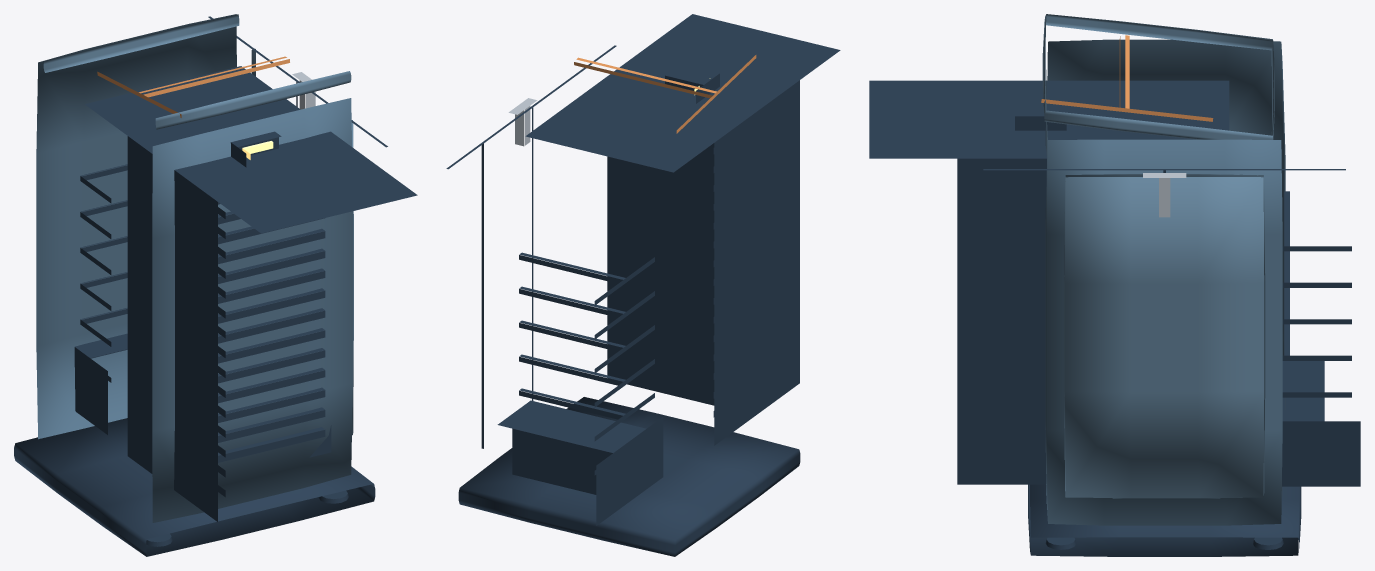
Rendered from model-modern-06.glb.
3 renders of one model, left to right at view 1: azimuth 30°, elevation 25°; view 2: azimuth 150°, elevation 25°; view 3: azimuth 270°, elevation 25°, orthographic. The views are drawn at different scales.
Parts seen in each view (by area): view 1: 机箱, 前面板饰框, 底座, 顶盖, 接口面板, 顶盖饰条, 散热格栅1, 散热格栅2, 散热格栅5, 散热格栅3, 散热格栅9, 散热格栅11 (+7 smaller); view 2: 前面板饰框, 底座, 接口面板, 侧板接缝, 顶盖饰条, 后部散热槽4, 后部散热槽5, 后部散热槽2, 后部散热槽3, 后部散热槽6, 指示灯槽, 侧板扣手; view 3: 可拆侧板, 前面板饰框, 机箱, 底座, 接口面板, 顶盖, 顶盖饰条, 指示灯槽, 后部散热槽6, 侧板接缝, 侧板扣手, 后部散热槽2 (+3 smaller).
Boxes of the visible parts, box(x1,y1,x2,y2) form: 机箱: box(36, 14, 352, 522); 前面板饰框: box(85, 66, 417, 521); 底座: box(14, 418, 375, 556); 顶盖: box(43, 14, 351, 129); 接口面板: box(74, 333, 127, 434); 顶盖饰条: box(97, 56, 289, 117); 散热格栅1: box(218, 427, 325, 497); 散热格栅2: box(218, 407, 325, 477); 散热格栅5: box(218, 348, 325, 417); 散热格栅3: box(218, 387, 325, 457); 散热格栅9: box(218, 268, 325, 338); 散热格栅11: box(218, 228, 325, 298); 前面板饰框: box(525, 14, 840, 445); 底座: box(458, 397, 800, 556); 接口面板: box(497, 400, 663, 525); 侧板接缝: box(446, 45, 616, 448); 顶盖饰条: box(574, 55, 756, 133); 后部散热槽4: box(519, 320, 654, 373); 后部散热槽5: box(519, 286, 654, 339); 后部散热槽2: box(519, 388, 654, 441); 后部散热槽3: box(519, 354, 654, 407); 后部散热槽6: box(519, 252, 654, 305); 指示灯槽: box(662, 69, 719, 103); 侧板扣手: box(508, 98, 537, 146); 可拆侧板: box(1064, 174, 1265, 498); 前面板饰框: box(869, 80, 1229, 484); 机箱: box(1045, 39, 1285, 525); 底座: box(1028, 484, 1301, 556); 接口面板: box(1282, 361, 1360, 486); 顶盖: box(1042, 14, 1274, 139); 顶盖饰条: box(1041, 35, 1213, 121); 指示灯槽: box(1015, 94, 1066, 130); 后部散热槽6: box(1282, 191, 1351, 251); 侧板接缝: box(983, 169, 1345, 499); 侧板扣手: box(1143, 173, 1186, 217); 后部散热槽2: box(1282, 361, 1351, 397).
Size of the model in its own units: 0.191 by 0.3375 by 0.341.
